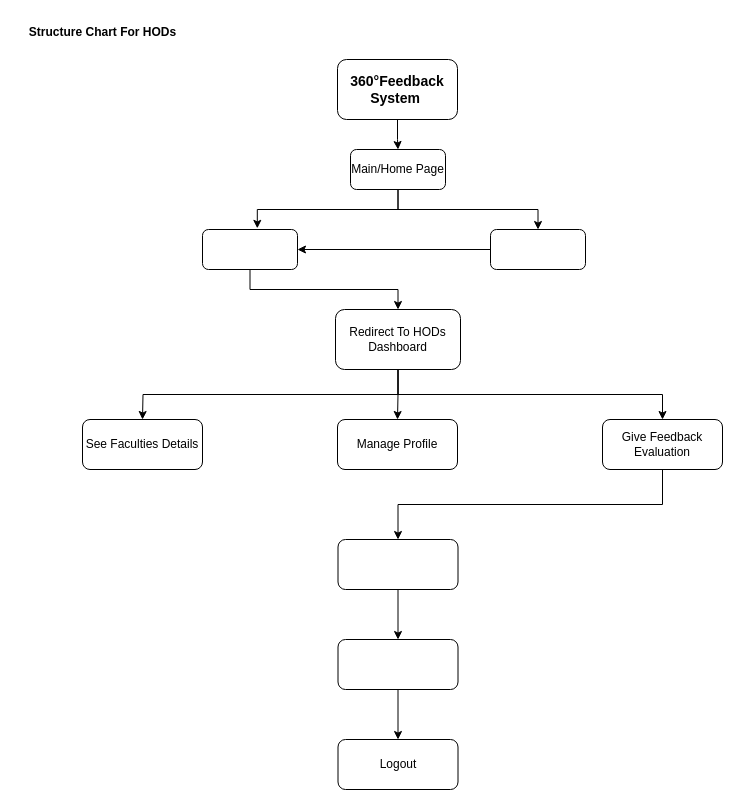
Image size: 740x807. Some labels were removed from this diagram. Here are the shapes that lost their labels. From the top down, the centre of each, then its label:
At point 250,249: "Login".
At point 538,249: "Register".
At point 397,564: "Evaluate Each Faculty By Feedback Questionnaires".
At point 397,664: "Submit Feedback".
